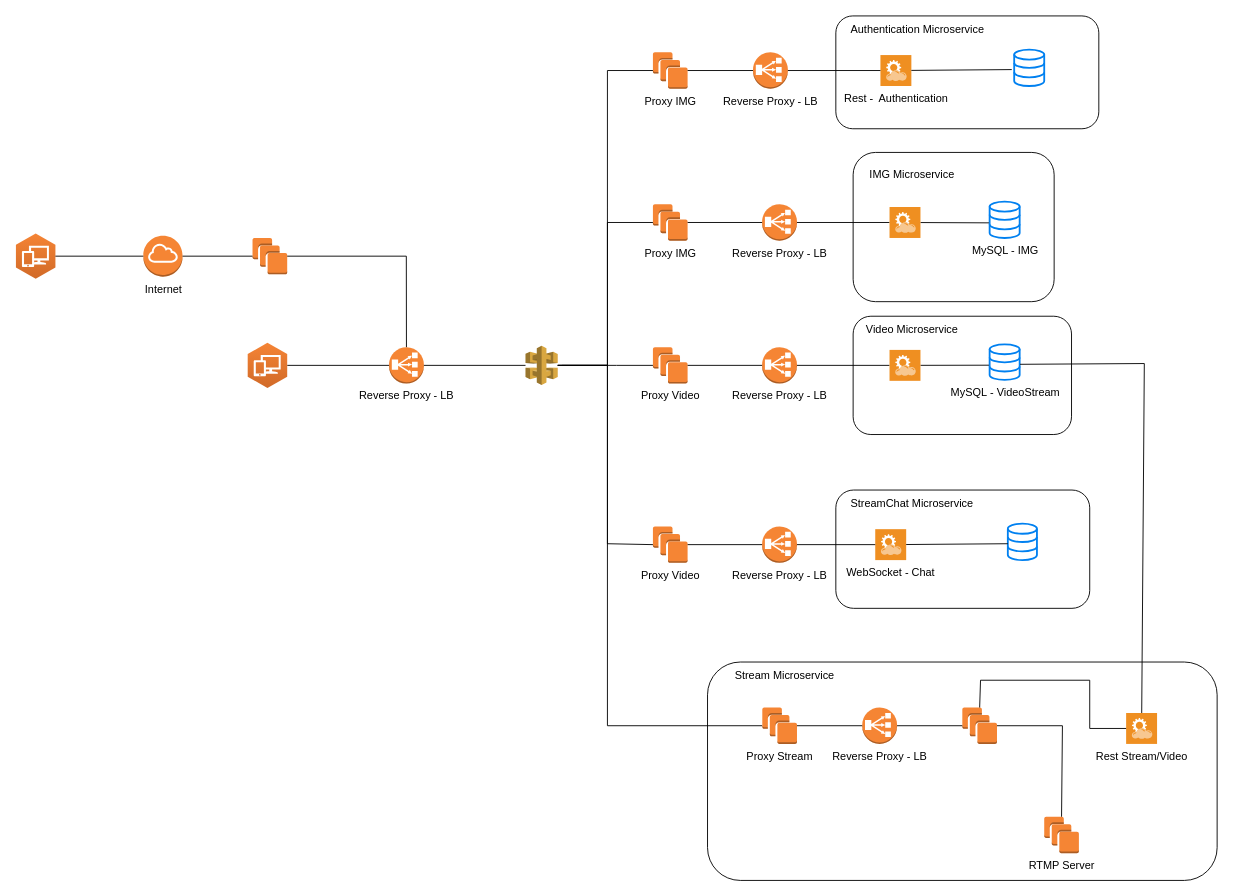
Some shapes in this 1233 by 896 pixel diagram are drawn without their labels. The centre of each missing label's shape, as x and y in pixels:
GraphQL - Gatewey: point 541,365
hsl Server: point 979,725
Mobile App: point 267,365
MongoDB - ChatStream: point 1021,541
MySQL - Authentication: point 1029,67
Rest - IMG: point 904,222
Rest - Video: point 904,364
User: point 35,256
Web App: point 269,255
